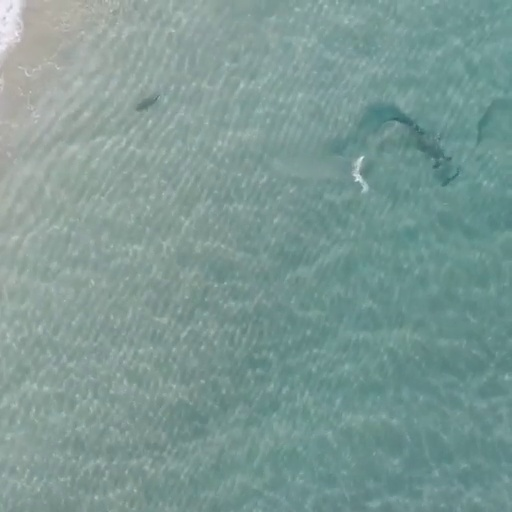shark: (374, 113, 454, 173)
